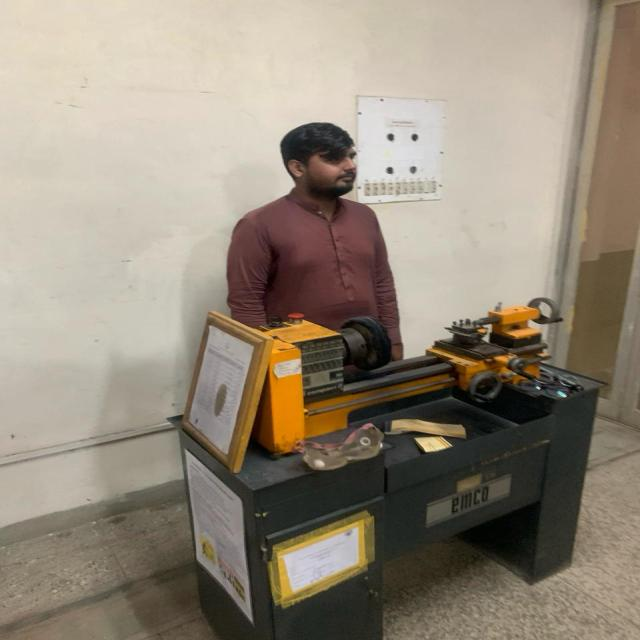dress: (223, 189, 409, 376)
